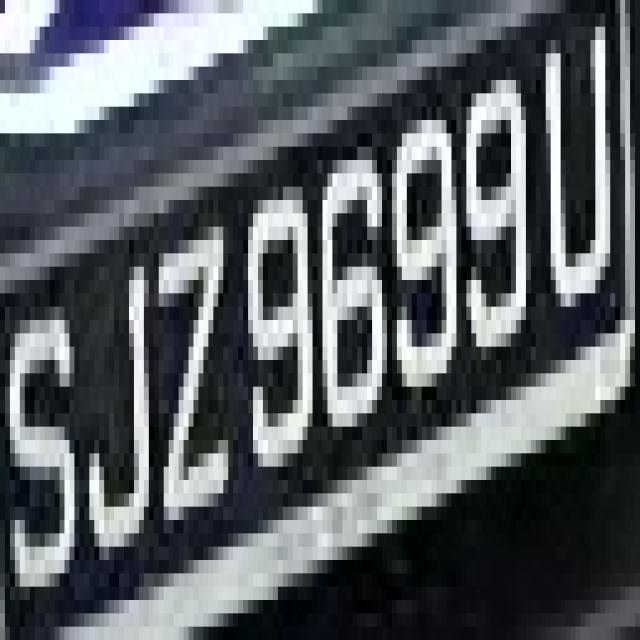6: (303, 133, 397, 480)
9: (228, 147, 318, 520), (377, 80, 466, 427), (456, 54, 531, 414)
J: (64, 200, 164, 587)
S: (0, 240, 84, 626)
U: (526, 0, 630, 360)
Z: (139, 200, 238, 587)
